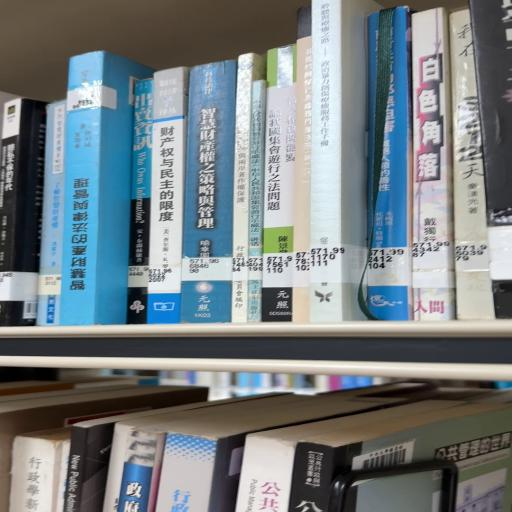reverse: (59, 51, 155, 326)
